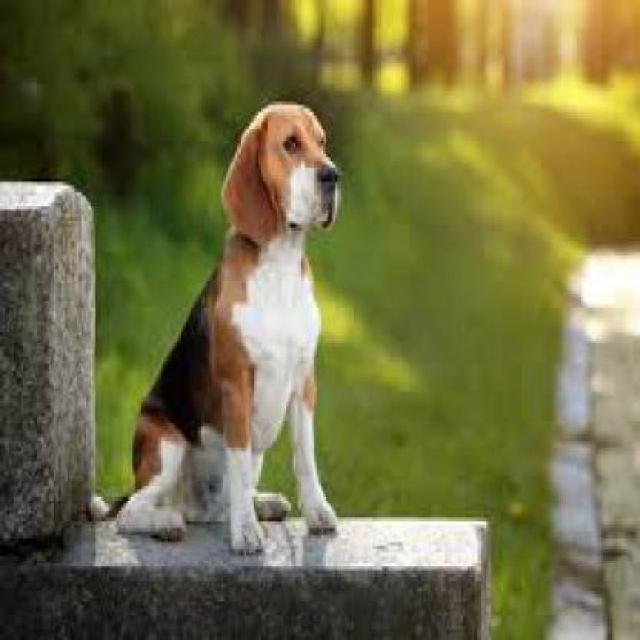Dog: (84, 99, 344, 558)
